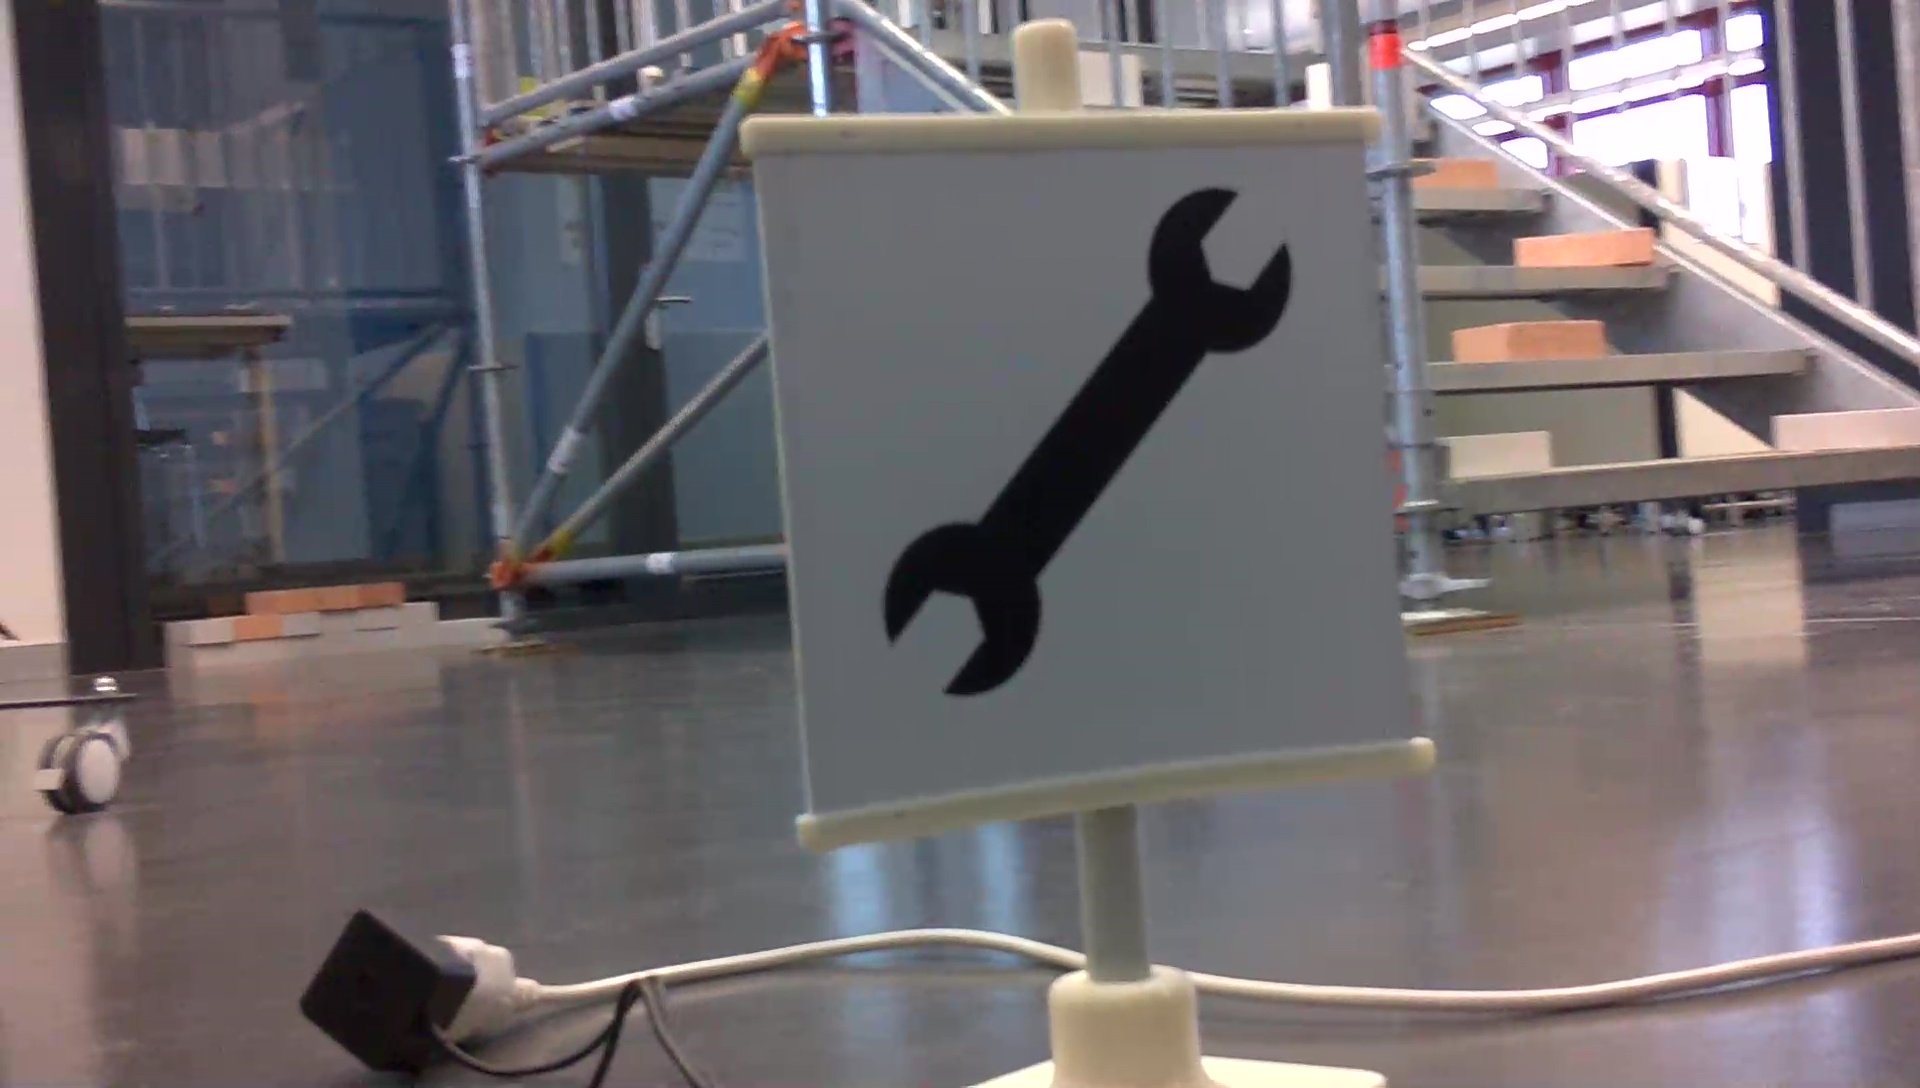brick: (1457, 320, 1601, 360), (1778, 410, 1915, 446), (1516, 231, 1652, 260), (1449, 433, 1548, 471), (1424, 161, 1495, 190)
edge: (1455, 450, 1917, 513), (1437, 351, 1812, 390), (1418, 262, 1677, 290), (1406, 187, 1557, 208)
wrench: (862, 178, 1298, 706)
